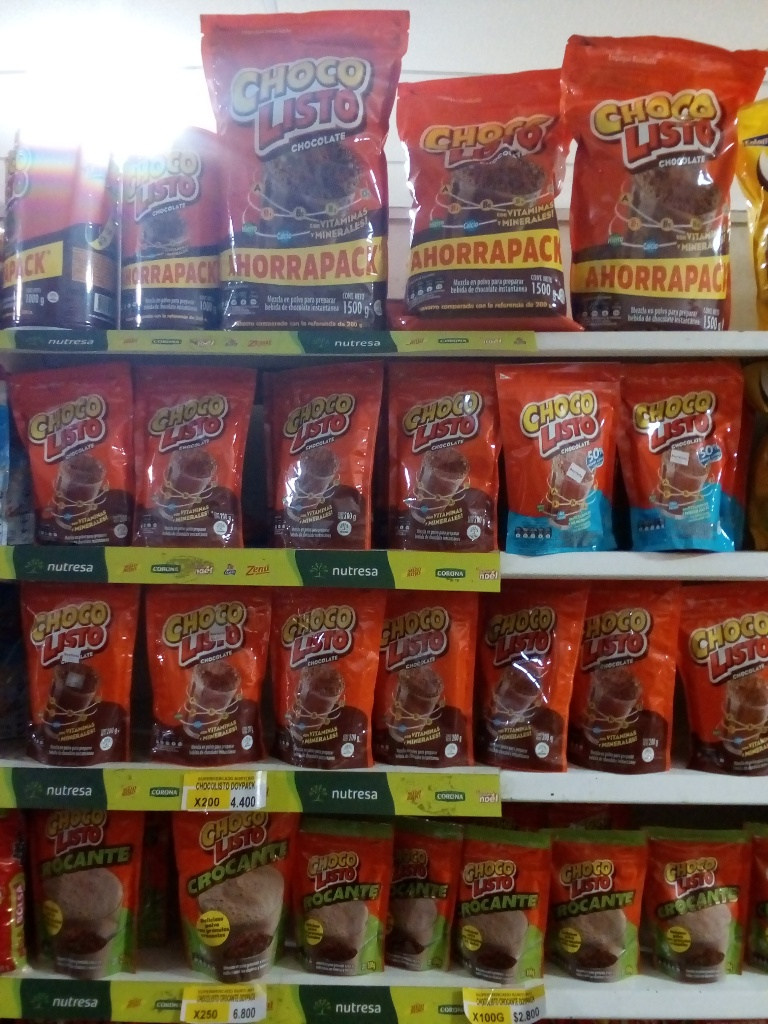COL0170102DYP10000: (298, 817, 392, 977)
COL0170102DYP25000: (32, 812, 155, 981)
COL0170103DYP1,500: (198, 10, 412, 327)
COL0170103DYP20000: (10, 362, 135, 547)
COL0170103TRR00100: (0, 119, 116, 327)
COL0170104DYP20000: (495, 364, 621, 554)
